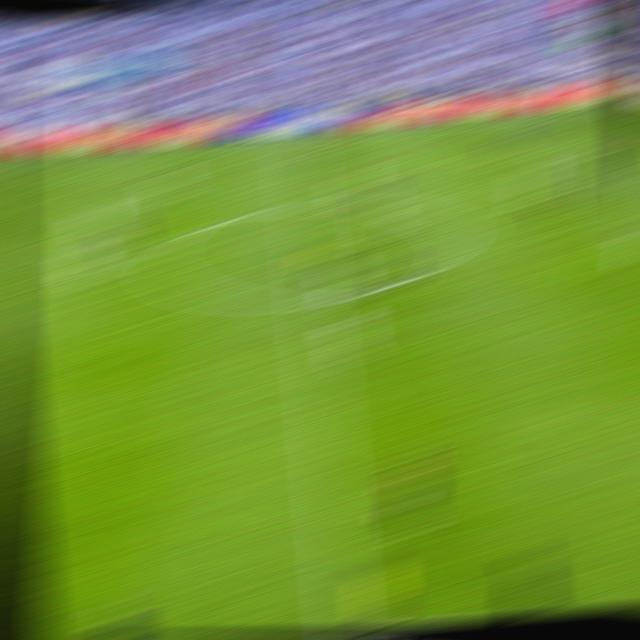halfcircle_bottom: (295, 286, 332, 312)
halfcircle_top: (286, 195, 322, 217)
midline_bottom_intersection: (321, 608, 363, 630)
midline_top_intersection: (282, 134, 313, 146)
